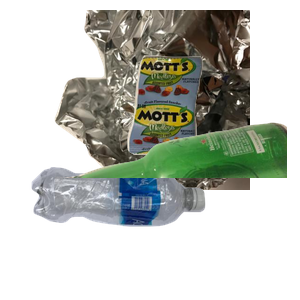glass: (60, 120, 300, 300)
metal: (52, 10, 292, 190)
plastic: (29, 165, 227, 300)
trash: (125, 53, 300, 201)
